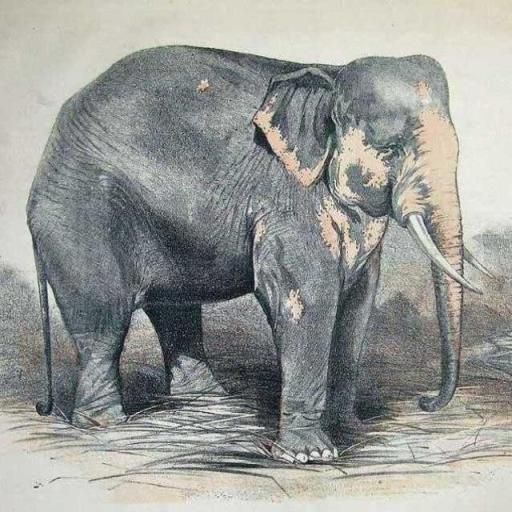Elephant: (25, 42, 496, 464)
